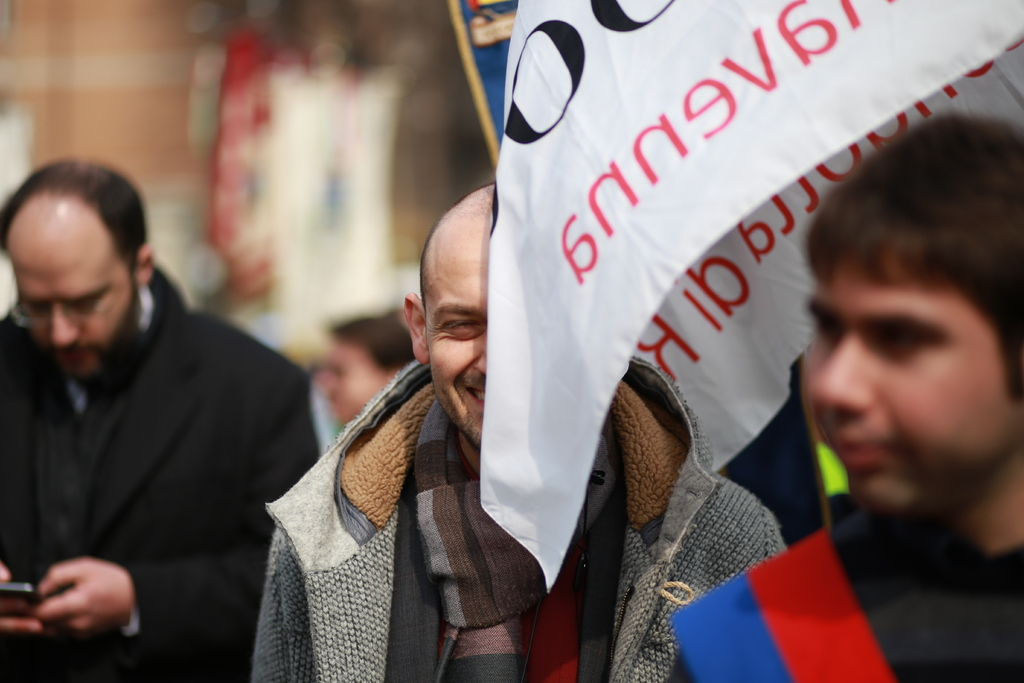Human-face: (794, 247, 1008, 513), (16, 227, 134, 378), (423, 233, 491, 445), (321, 336, 385, 428)
